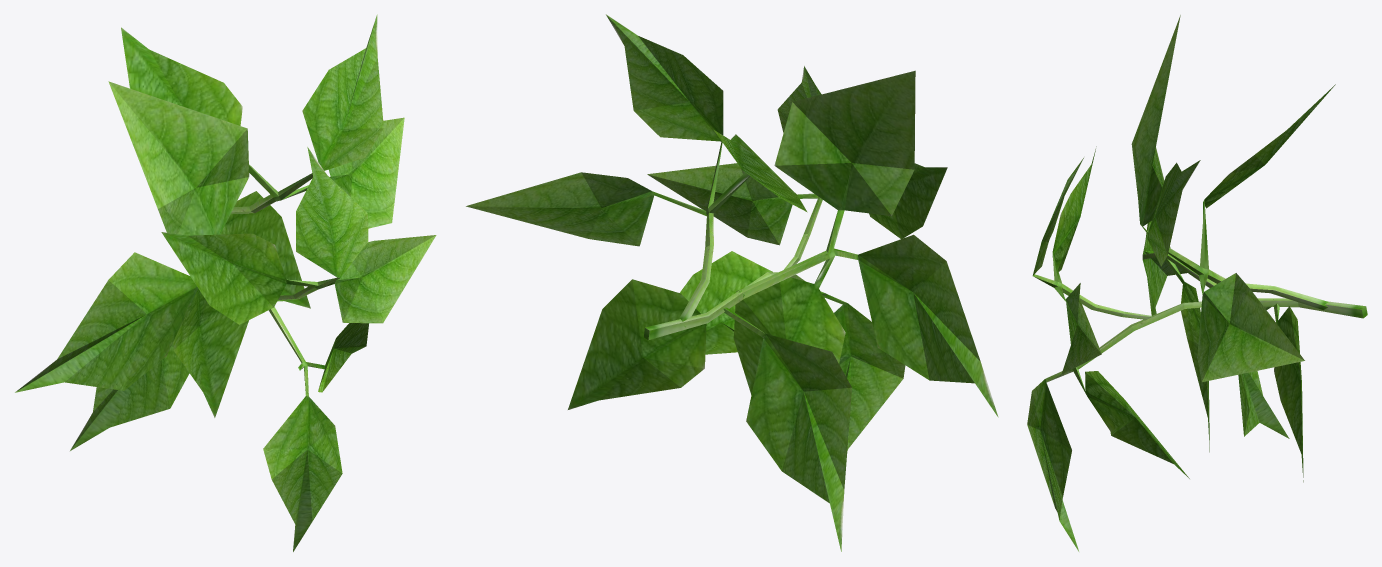
Rendered from bean_medium.obj.
3 views of the same model, side by side, from view 1: azimuth 30°, elevation 25°; view 2: azimuth 150°, elevation 25°; view 3: azimuth 270°, elevation 25° (orthographic). The views are drawn at different scales.
Visible parts, largest first — view 1: bean_medium_unit.001_Plane.004; view 2: bean_medium_unit.001_Plane.004; view 3: bean_medium_unit.001_Plane.004.
Part boxes in pixels (<box>): bean_medium_unit.001_Plane.004: <box>15,14,436,551</box>; bean_medium_unit.001_Plane.004: <box>466,14,998,551</box>; bean_medium_unit.001_Plane.004: <box>1027,15,1367,551</box>.
Size of the model in its own units: 0.2119 by 0.2135 by 0.1395.
Materials: 1 (1 with a texture image).
